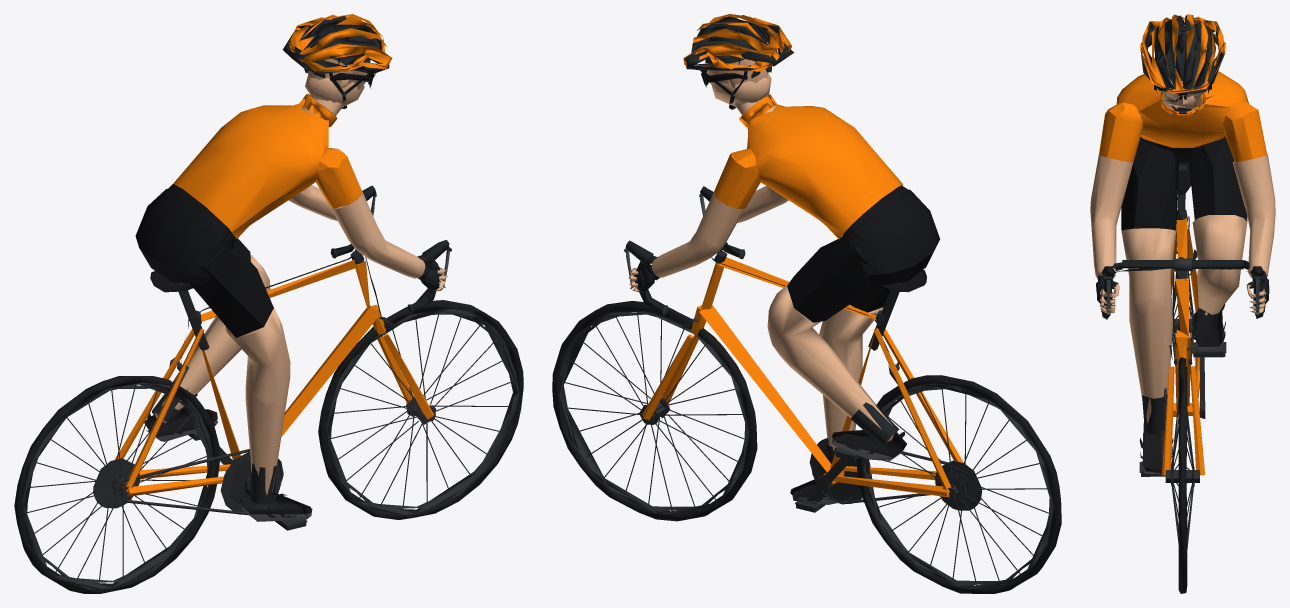
File: rider-lod2.glb
3 views of the same model, side by side, from view 1: azimuth 30°, elevation 25°; view 2: azimuth 150°, elevation 25°; view 3: azimuth 270°, elevation 25° (orthographic).
Visible parts, largest first — view 1: rider__Palette; view 2: rider__Palette; view 3: rider__Palette.
Boxes of the visible parts, x1,y1,x2,y2 form: rider__Palette: (14,14,523,593); rider__Palette: (552,14,1061,593); rider__Palette: (1090,14,1275,593).
Bounding box in the file's own units: 1.67 × 1.63 × 0.5224.
Materials: 1 (1 with a texture image).
